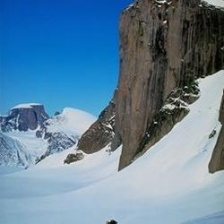neutral: (4, 2, 224, 188)
